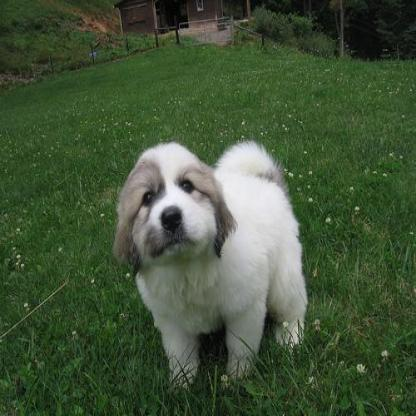Great_Pyrenees: (114, 142, 308, 382)
